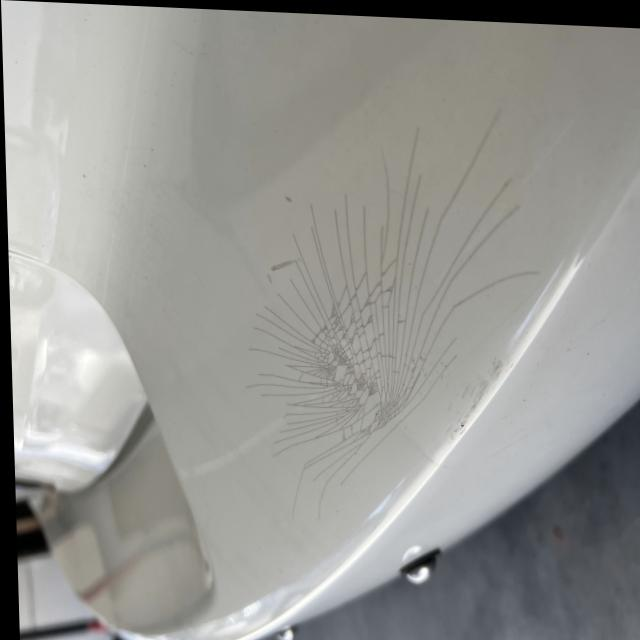Paint-Crack: (245, 106, 540, 530)
